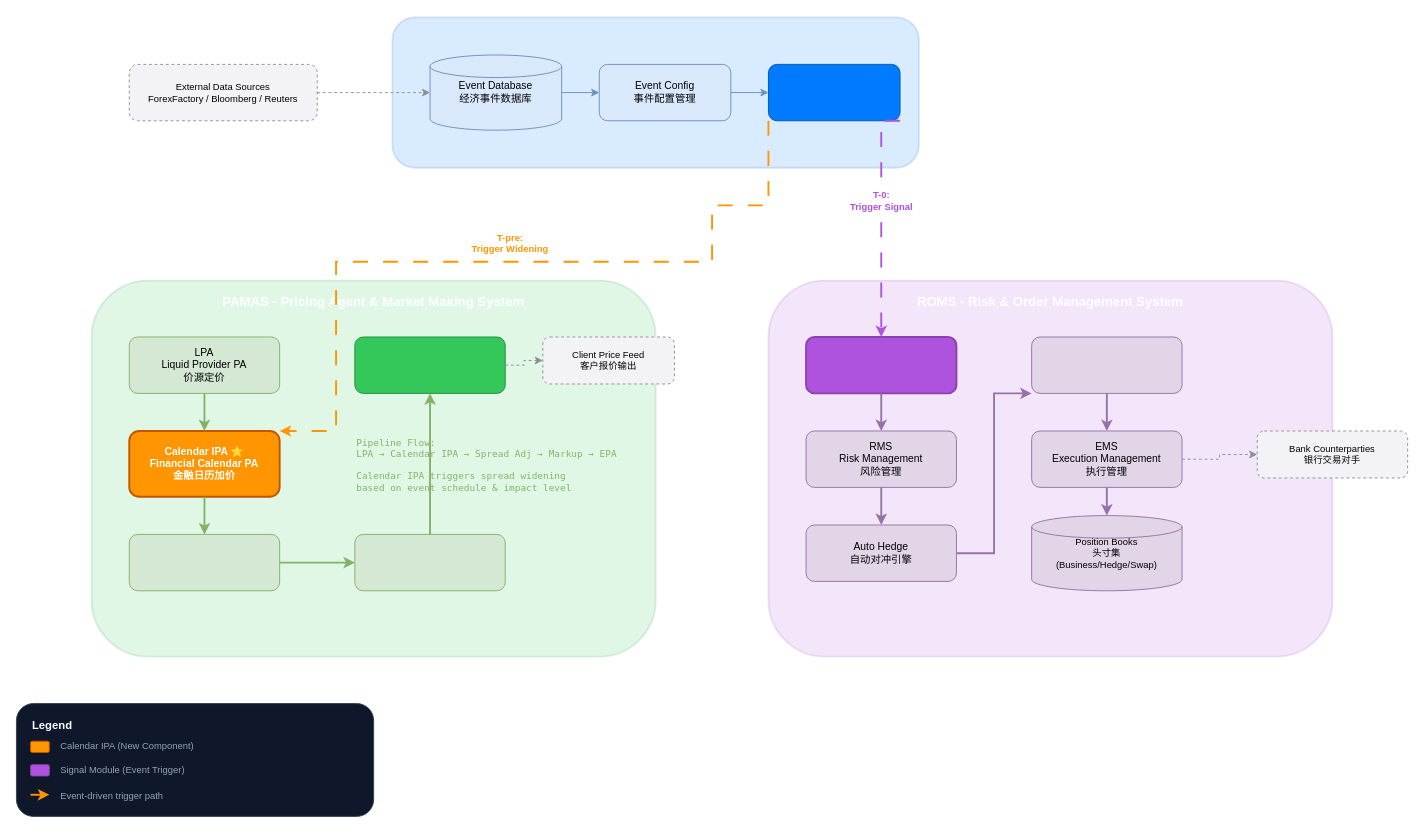
The diagram is 1424 pixels wide and 833 high, and some of its shapes have lost their labels. Here are the shapes that lost their labels. From the top down, the box of each, then its label:
(391, 16, 919, 168): Financial Calendar System
(768, 63, 900, 121): Event Scheduler 事件调度器
(354, 336, 505, 393): EPA External PA 外部输出
(805, 336, 957, 394): Signal Module 信号模块
(1031, 336, 1182, 393): OMS Order Management 订单管理
(128, 533, 280, 591): Spread Adj IPA 价宽调整PA
(354, 533, 505, 591): Markup IPA 手工加价PA
